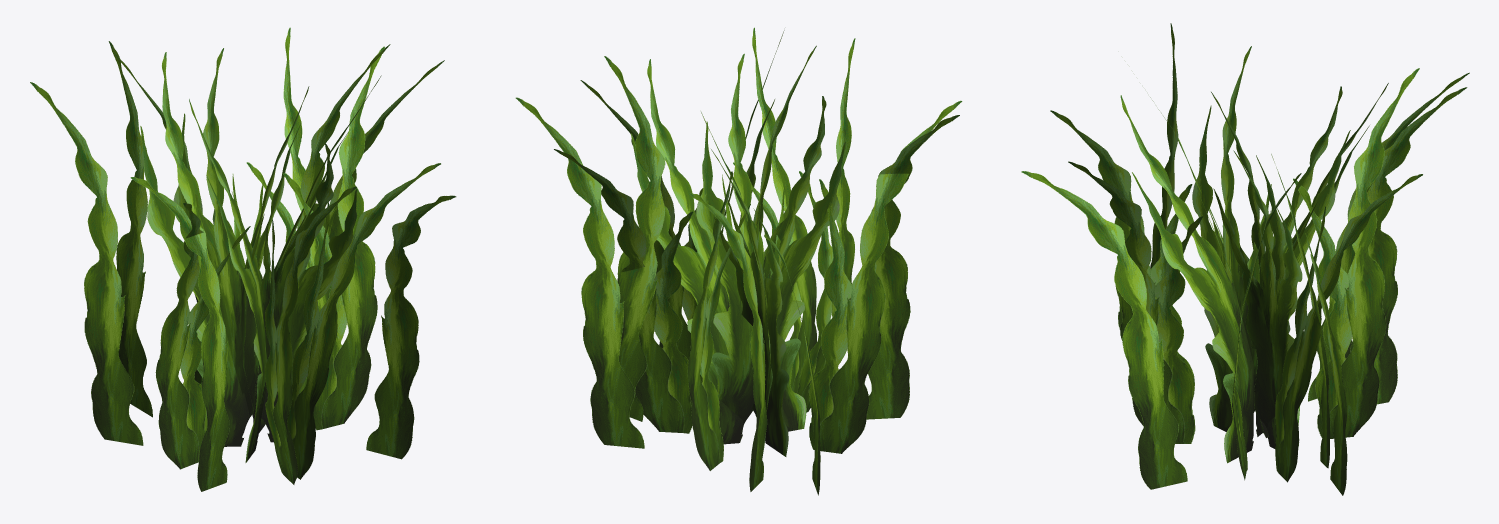
Rendered from Seaweed.obj.
3 renders of one model, left to right at view 1: azimuth 30°, elevation 25°; view 2: azimuth 150°, elevation 25°; view 3: azimuth 270°, elevation 25°, orthographic.
Visible parts, largest first — view 1: pPlane7_sw02mat_0_1; view 2: pPlane7_sw02mat_0_1; view 3: pPlane7_sw02mat_0_1.
Boxes of the visible parts, x1,y1,x2,y2 form: pPlane7_sw02mat_0_1: (30,27,456,491); pPlane7_sw02mat_0_1: (515,27,962,495); pPlane7_sw02mat_0_1: (1021,23,1469,495).
Size of the model in its own units: 129 by 113 by 130.
1 material, 1 textured.
